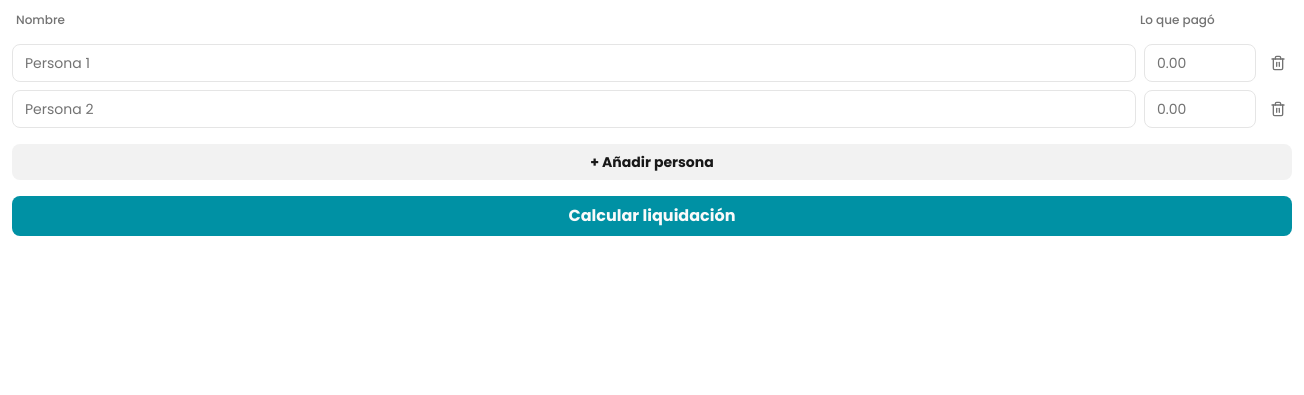
ExpenseSettlement › muestra 'Todo está igualado' cuando todos pagaron lo mismo
Type "50" into the 1st number field with placeholder "0.00" at (1200, 63), box left=1144, top=44, right=1256, bottom=82
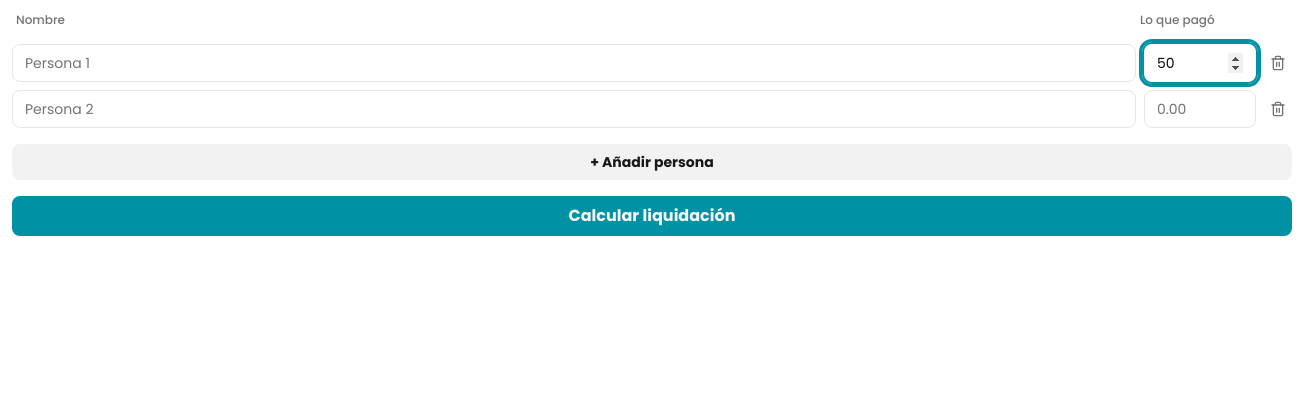
Type "50" into the number field with placeholder "0.00" at (1200, 109), box left=1144, top=90, right=1256, bottom=128
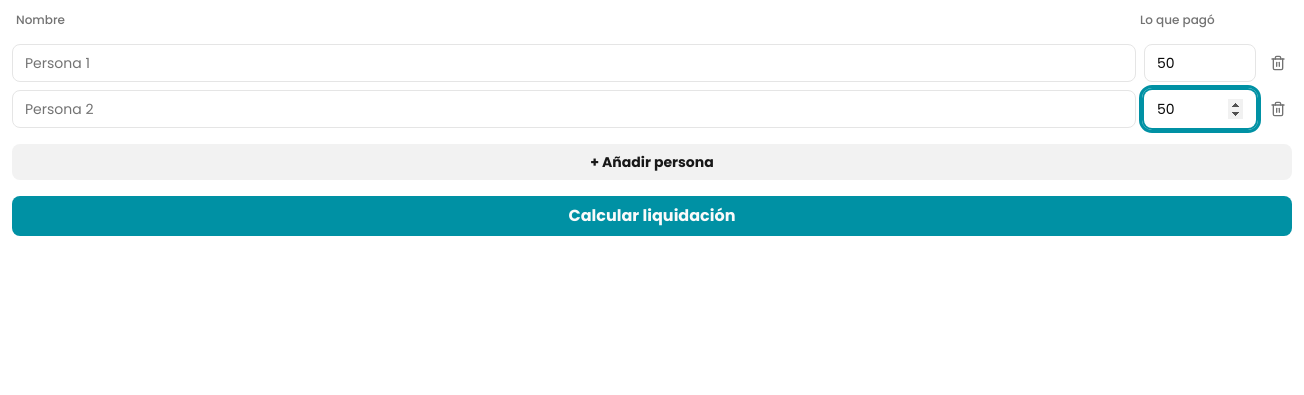
Click the button "Calcular liquidación" at (652, 216), box left=12, top=196, right=1292, bottom=236
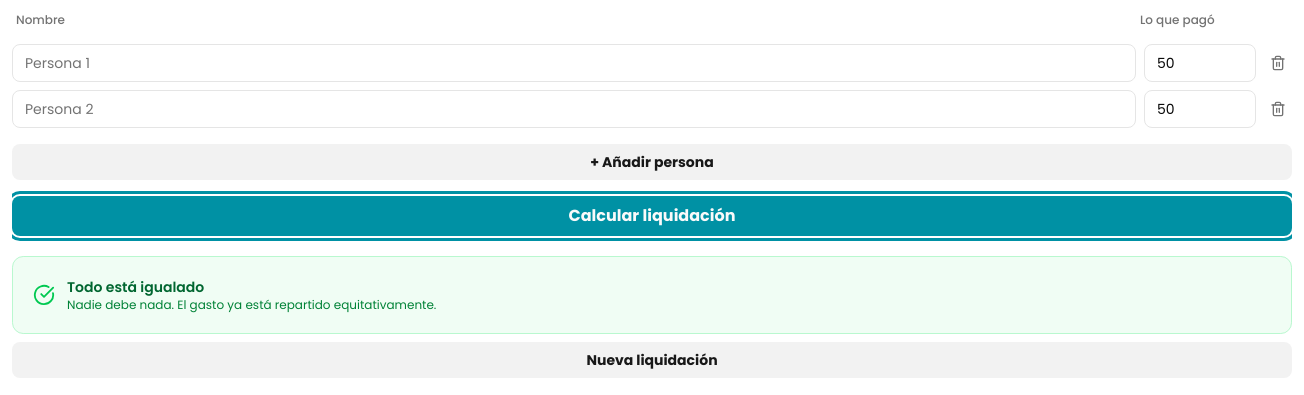
Check: the text "Todo está igualado" is shown, box left=67, top=277, right=204, bottom=297
